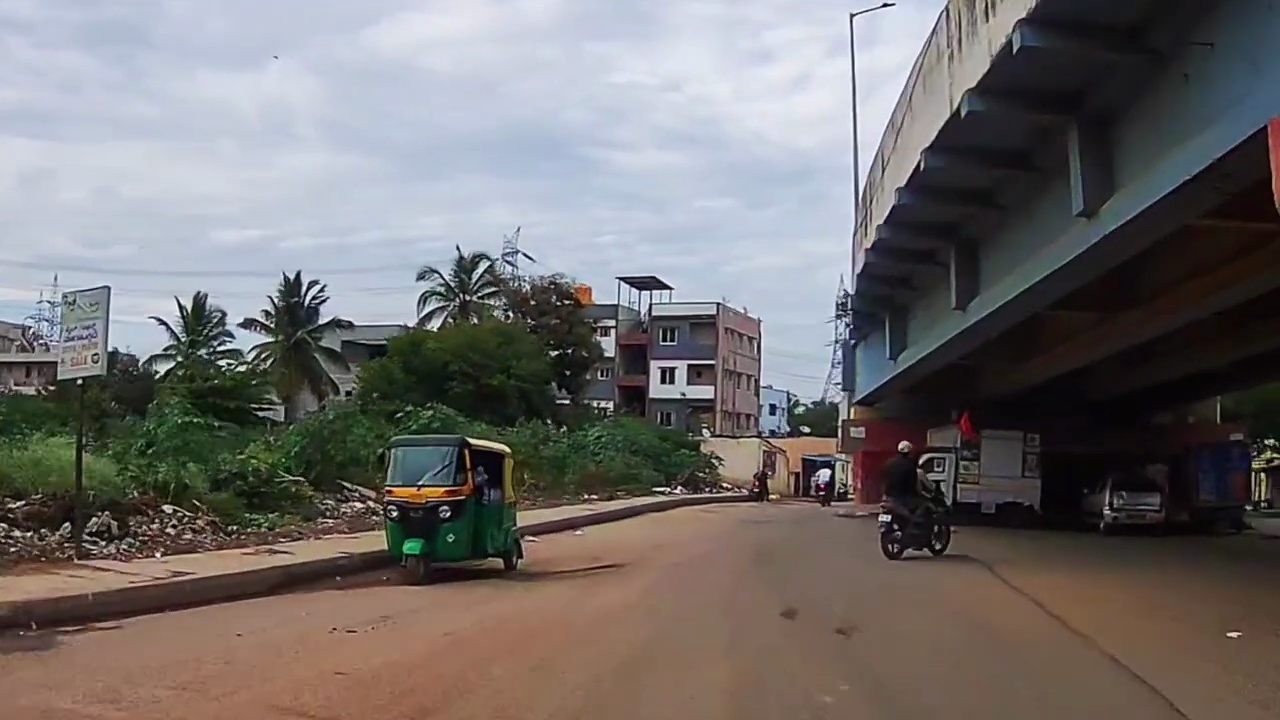garbage: (1, 522, 220, 553), (312, 492, 368, 527)
